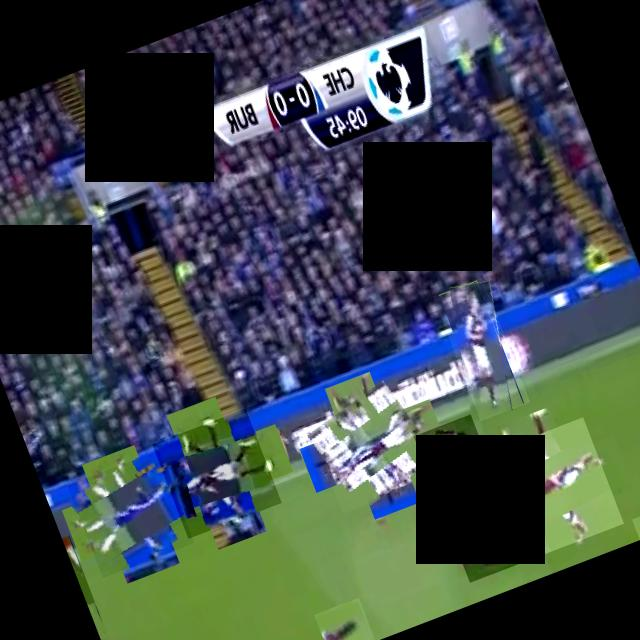referee: (86, 600, 143, 640)
soccer-player: (477, 416, 622, 564), (412, 414, 526, 582), (304, 378, 439, 513), (151, 408, 281, 538), (66, 450, 193, 578), (432, 276, 530, 421), (60, 534, 119, 640), (313, 597, 375, 640), (631, 505, 640, 540)
